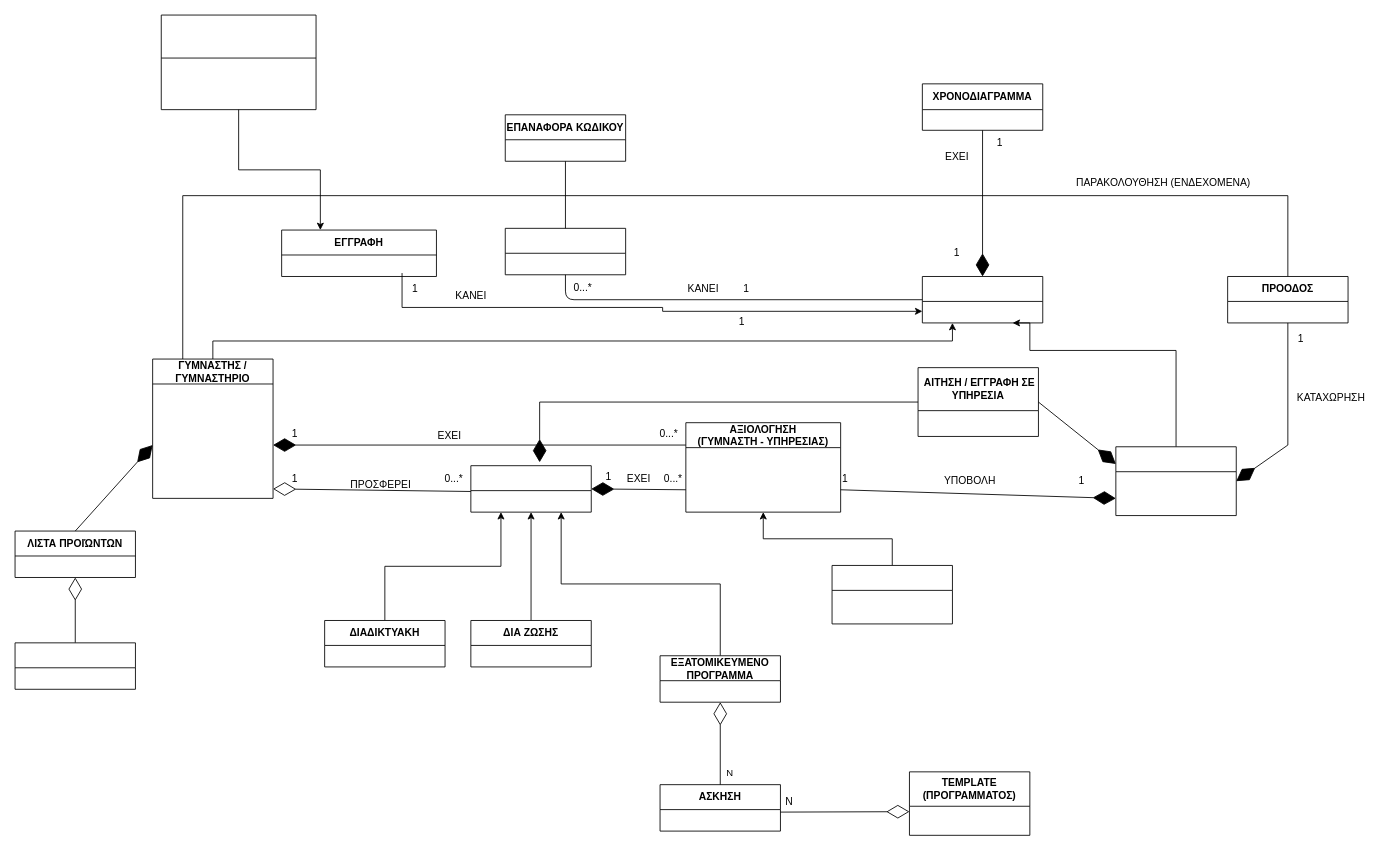
This 1389x851 diagram has some shape labels left out. Here are the shapes that lost their labels. From the top down, the centre of each, then its label:
[238,62]: ΔΗΜΙΟΥΡΓΙΑ ΠΡΟΦΙΛ ΓΥΜΝΑΣΤΗ
[565,251]: ΣΥΝΔΕΣΗ
[982,299]: ΧΡΗΣΤΗΣ
[530,488]: ΥΠΗΡΕΣΙΑ
[1175,481]: ΓΥΜΝΑΖΟΜΕΝΟΣ
[891,594]: ΑΝΑΦΟΡΑ
[74,665]: ΠΡΟΙΟΝ
